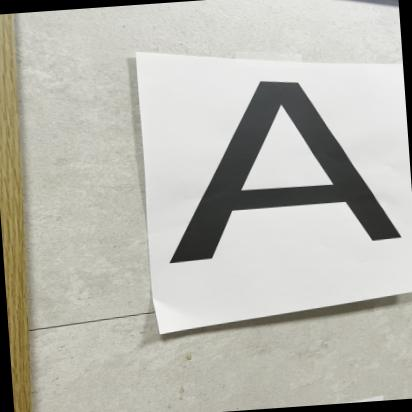seat: (153, 62, 412, 272)
